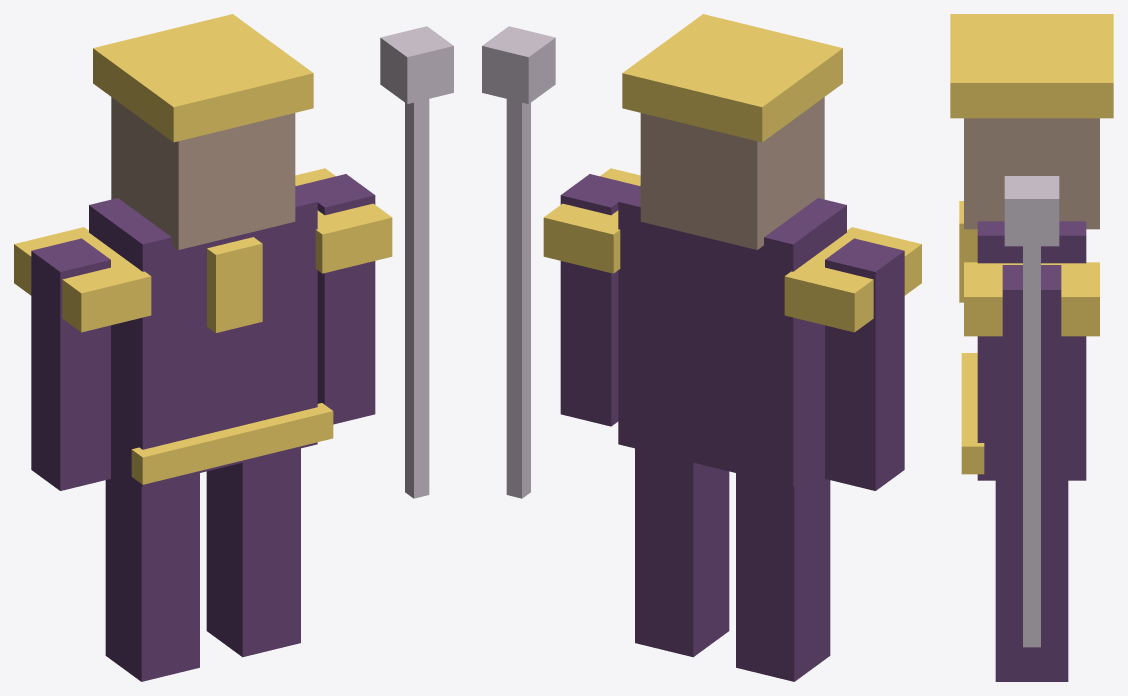
The model's file is 18_noor_gravesong_scout_from_loading.glb.
The picture shows the model from 3 angles, left to right: view 1: azimuth 30°, elevation 25°; view 2: azimuth 150°, elevation 25°; view 3: azimuth 270°, elevation 25°; orthographic projection.
Parts seen in each view (by area): view 1: Noor Gravesong, Scout from Loading; view 2: Noor Gravesong, Scout from Loading; view 3: Noor Gravesong, Scout from Loading.
Boxes of the visible parts, x1,y1,x2,y2 form: Noor Gravesong, Scout from Loading: (14,14,453,681); Noor Gravesong, Scout from Loading: (482,14,921,681); Noor Gravesong, Scout from Loading: (950,14,1113,681).
Size of the model in its own units: 0.9893 by 1.41 by 0.3509.
